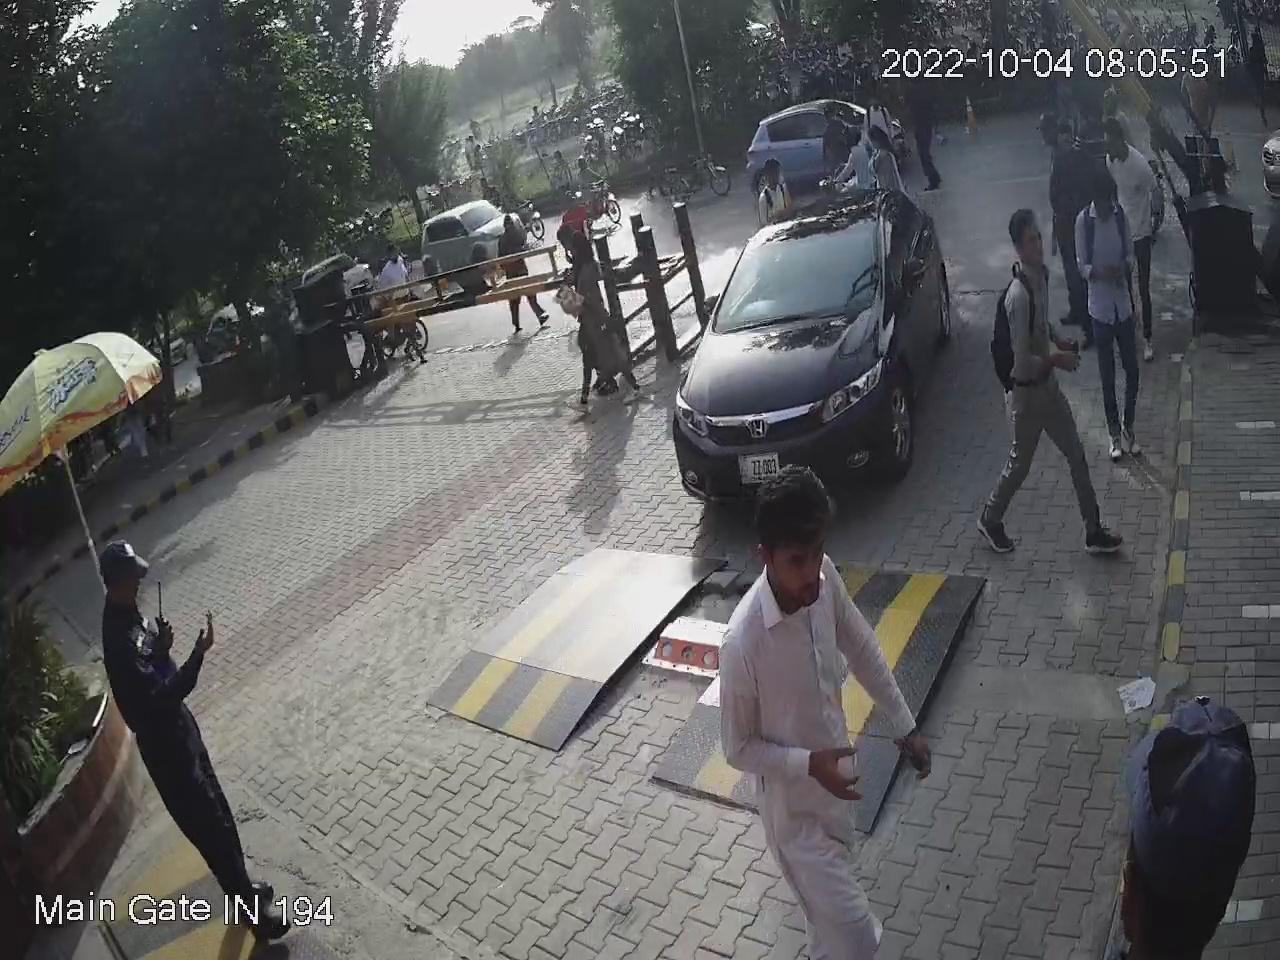windshield: (716, 203, 881, 330)
